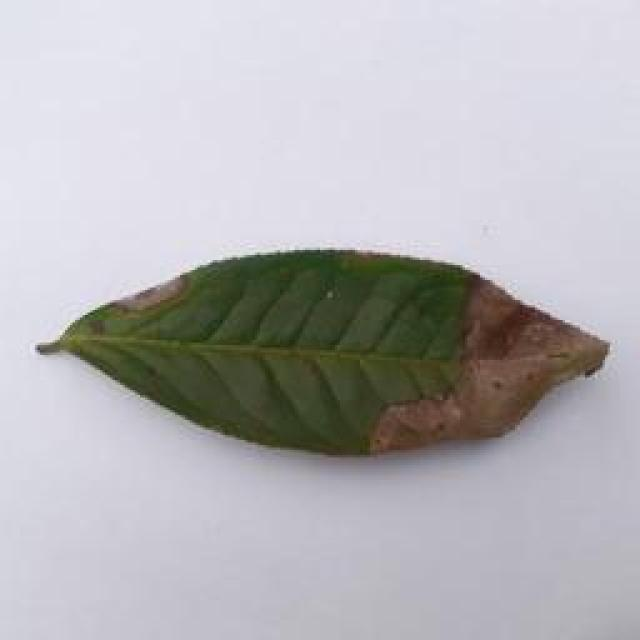Brown Blight: (30, 212, 620, 463)
